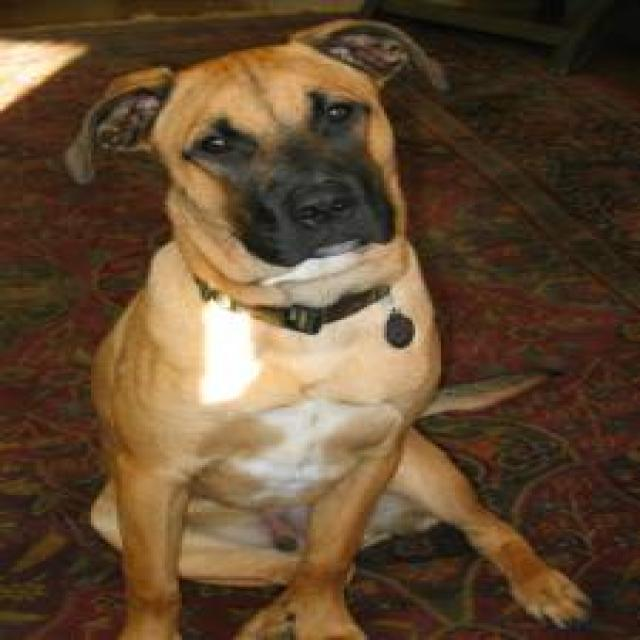dog-american_pit_bull_terrier: (51, 13, 589, 636)
